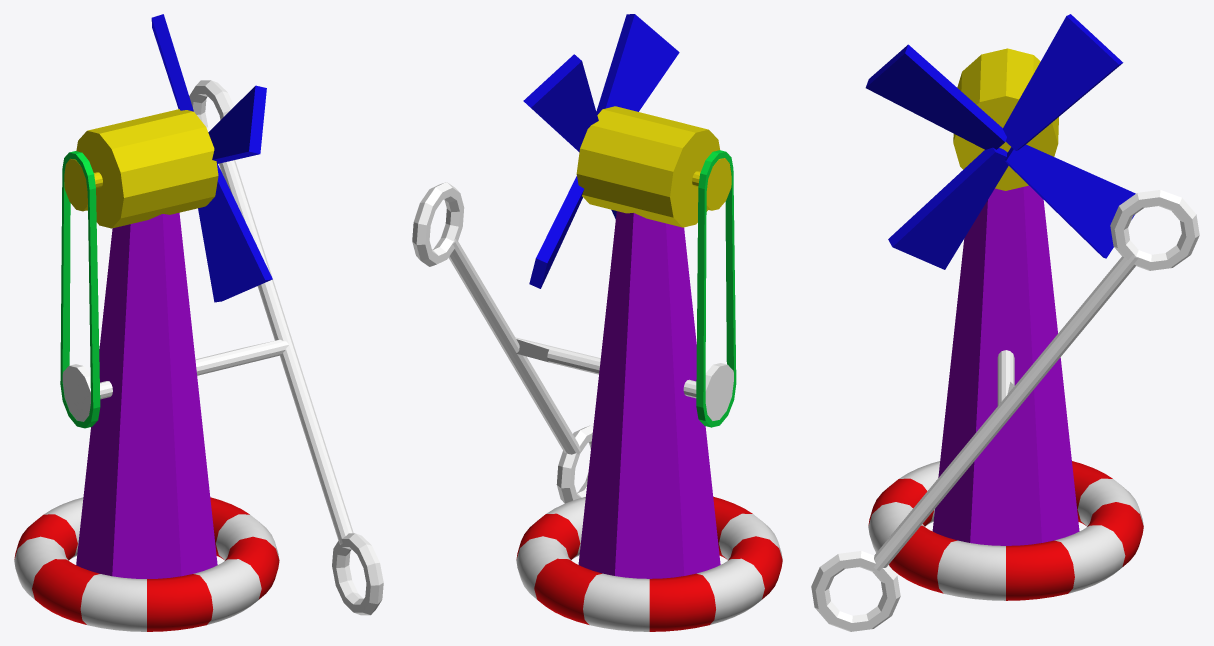
The model's file is tower.glb.
The picture shows the model from 3 angles, left to right: view 1: azimuth 30°, elevation 25°; view 2: azimuth 150°, elevation 25°; view 3: azimuth 270°, elevation 25°; orthographic projection. The views are drawn at different scales.
Visible parts, largest first — view 1: Trunk, Swimmer.001, Motor, BubbleGenerator, Propeller, Transition, Axis; view 2: Trunk, Swimmer.001, Motor, Propeller, BubbleGenerator, Transition, Axis; view 3: Trunk, Propeller, Swimmer.001, BubbleGenerator, Motor, Axis.
Part boxes in pixels (box(x1,y1,x2,y2)): Trunk: box(76, 212, 217, 578); Swimmer.001: box(14, 497, 279, 631); Motor: box(64, 109, 218, 228); BubbleGenerator: box(189, 80, 383, 615); Propeller: box(151, 14, 272, 302); Transition: box(60, 151, 100, 428); Axis: box(62, 339, 288, 421); Trunk: box(578, 211, 720, 578); Swimmer.001: box(516, 496, 782, 631); Motor: box(576, 106, 731, 227); Propeller: box(523, 14, 679, 288); BubbleGenerator: box(412, 182, 593, 503); Transition: box(696, 150, 736, 427); Axis: box(515, 337, 733, 420); Trunk: box(932, 185, 1079, 545); Propeller: box(865, 14, 1135, 269); Swimmer.001: box(868, 461, 1143, 600); BubbleGenerator: box(811, 190, 1199, 631); Motor: box(953, 48, 1058, 190); Axis: box(997, 350, 1014, 405).
Bounding box in the file's own units: 4.19 × 8.41 × 5.21.
